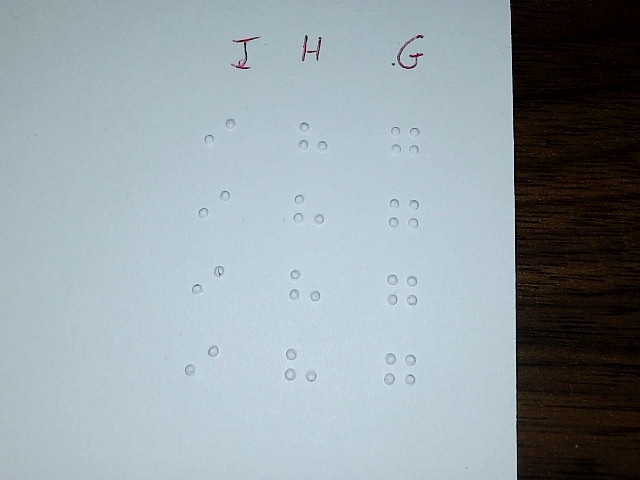G: (389, 118, 423, 171), (387, 192, 421, 245), (386, 265, 420, 318), (384, 347, 418, 400)
H: (292, 184, 326, 242), (296, 113, 330, 169), (288, 261, 322, 317), (283, 342, 317, 398)
I: (184, 336, 221, 393), (203, 108, 237, 161), (197, 181, 231, 234), (191, 256, 225, 309)
